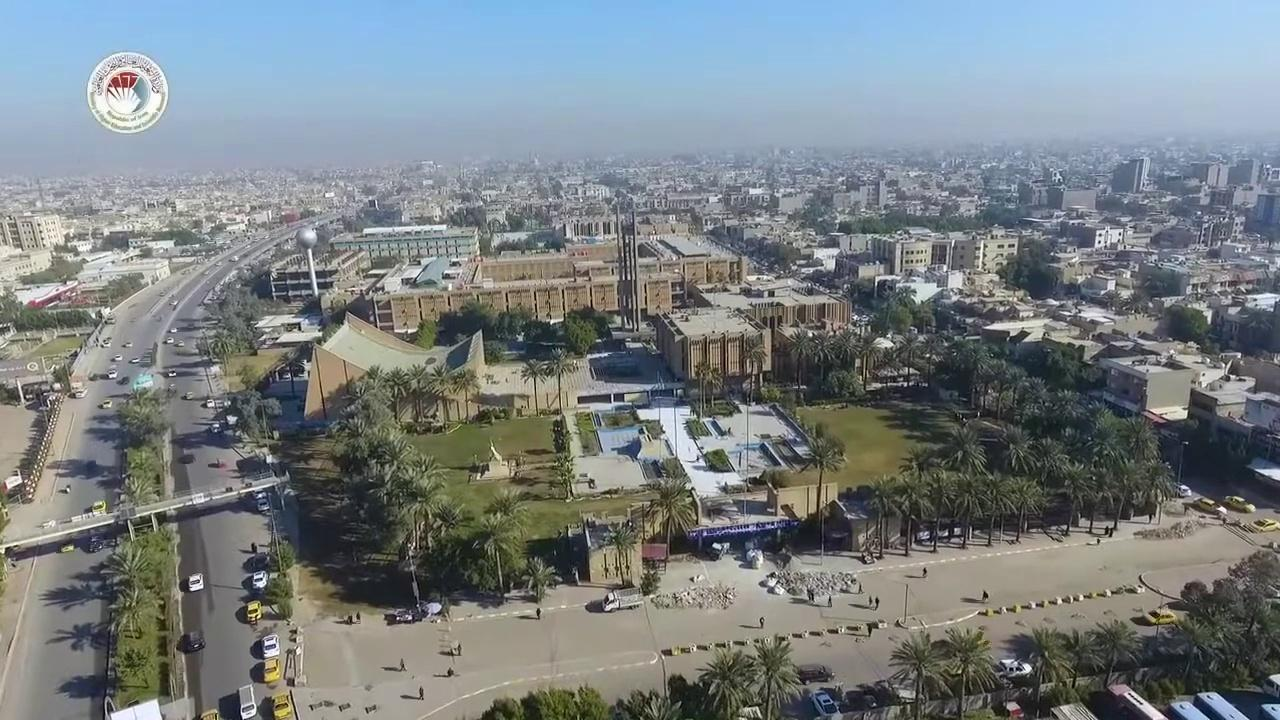car: (602, 587, 644, 612), (795, 663, 834, 684), (995, 658, 1033, 678), (236, 685, 258, 716), (383, 607, 417, 624), (182, 630, 205, 653), (272, 694, 292, 717), (261, 633, 279, 656), (254, 497, 276, 515), (263, 659, 280, 681), (1169, 481, 1191, 497), (86, 532, 104, 550), (252, 570, 268, 590), (188, 572, 203, 591), (87, 496, 104, 511), (247, 600, 259, 620), (58, 540, 77, 552), (211, 424, 221, 435), (204, 399, 217, 406), (60, 484, 70, 493), (122, 341, 132, 347)
person: (980, 588, 992, 603), (826, 593, 834, 607), (417, 685, 424, 699), (868, 597, 876, 609), (399, 657, 405, 671), (347, 612, 354, 624), (535, 606, 541, 619), (921, 570, 930, 578), (356, 612, 362, 624), (876, 598, 881, 609), (759, 618, 764, 627)
tree: (862, 341, 1174, 553), (95, 386, 182, 707), (1175, 548, 1279, 688), (381, 451, 449, 608), (1089, 409, 1165, 532), (346, 359, 480, 426), (794, 419, 847, 563), (98, 539, 165, 639), (935, 422, 988, 547), (930, 624, 998, 718), (476, 487, 531, 602), (886, 627, 945, 718), (641, 474, 697, 569), (694, 643, 758, 718), (609, 193, 643, 332), (748, 632, 801, 718), (1026, 624, 1073, 718), (426, 498, 466, 604), (1087, 617, 1138, 689), (889, 469, 930, 555), (115, 386, 169, 445), (921, 466, 958, 552), (999, 474, 1043, 543), (867, 473, 901, 557), (535, 682, 608, 718), (1055, 455, 1088, 534), (540, 346, 578, 413), (122, 444, 162, 505), (548, 421, 577, 502), (605, 518, 638, 587), (1059, 627, 1095, 689), (891, 326, 927, 385), (112, 645, 151, 695), (621, 687, 683, 718), (786, 325, 816, 388), (427, 360, 455, 425), (404, 362, 433, 423), (522, 554, 558, 603), (693, 359, 723, 417), (450, 366, 481, 421), (561, 310, 597, 356), (380, 365, 409, 422), (519, 356, 547, 415), (263, 573, 294, 622), (266, 534, 296, 577), (480, 694, 524, 719), (639, 557, 661, 595), (413, 317, 437, 349)
